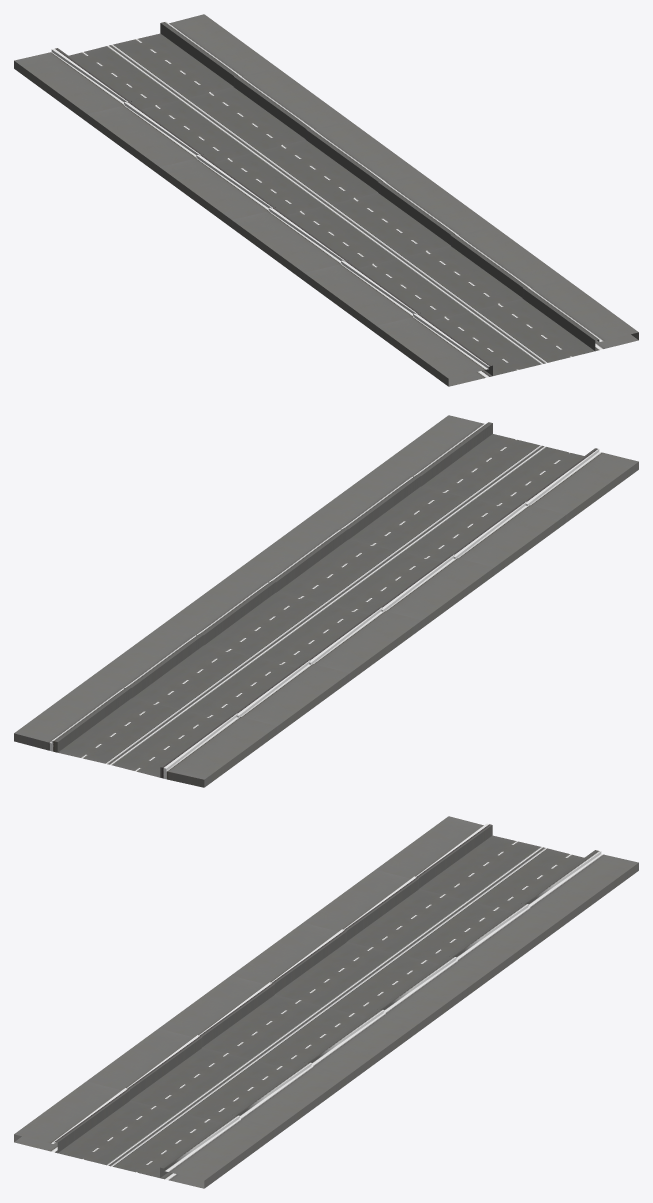
Rendered from Iroad 1.fbx.
3 views of the same model, one above another, from view 1: azimuth 30°, elevation 25°; view 2: azimuth 150°, elevation 25°; view 3: azimuth 330°, elevation 25° (orthographic).
Parts seen in each view (by area): view 1: Iroad; view 2: Iroad; view 3: Iroad.
Boxes of the visible parts, x1,y1,x2,y2 form: Iroad: (14,14,638,386); Iroad: (14,415,638,787); Iroad: (14,816,638,1188).
Size of the model in its own units: 210 by 11.95 by 830.
